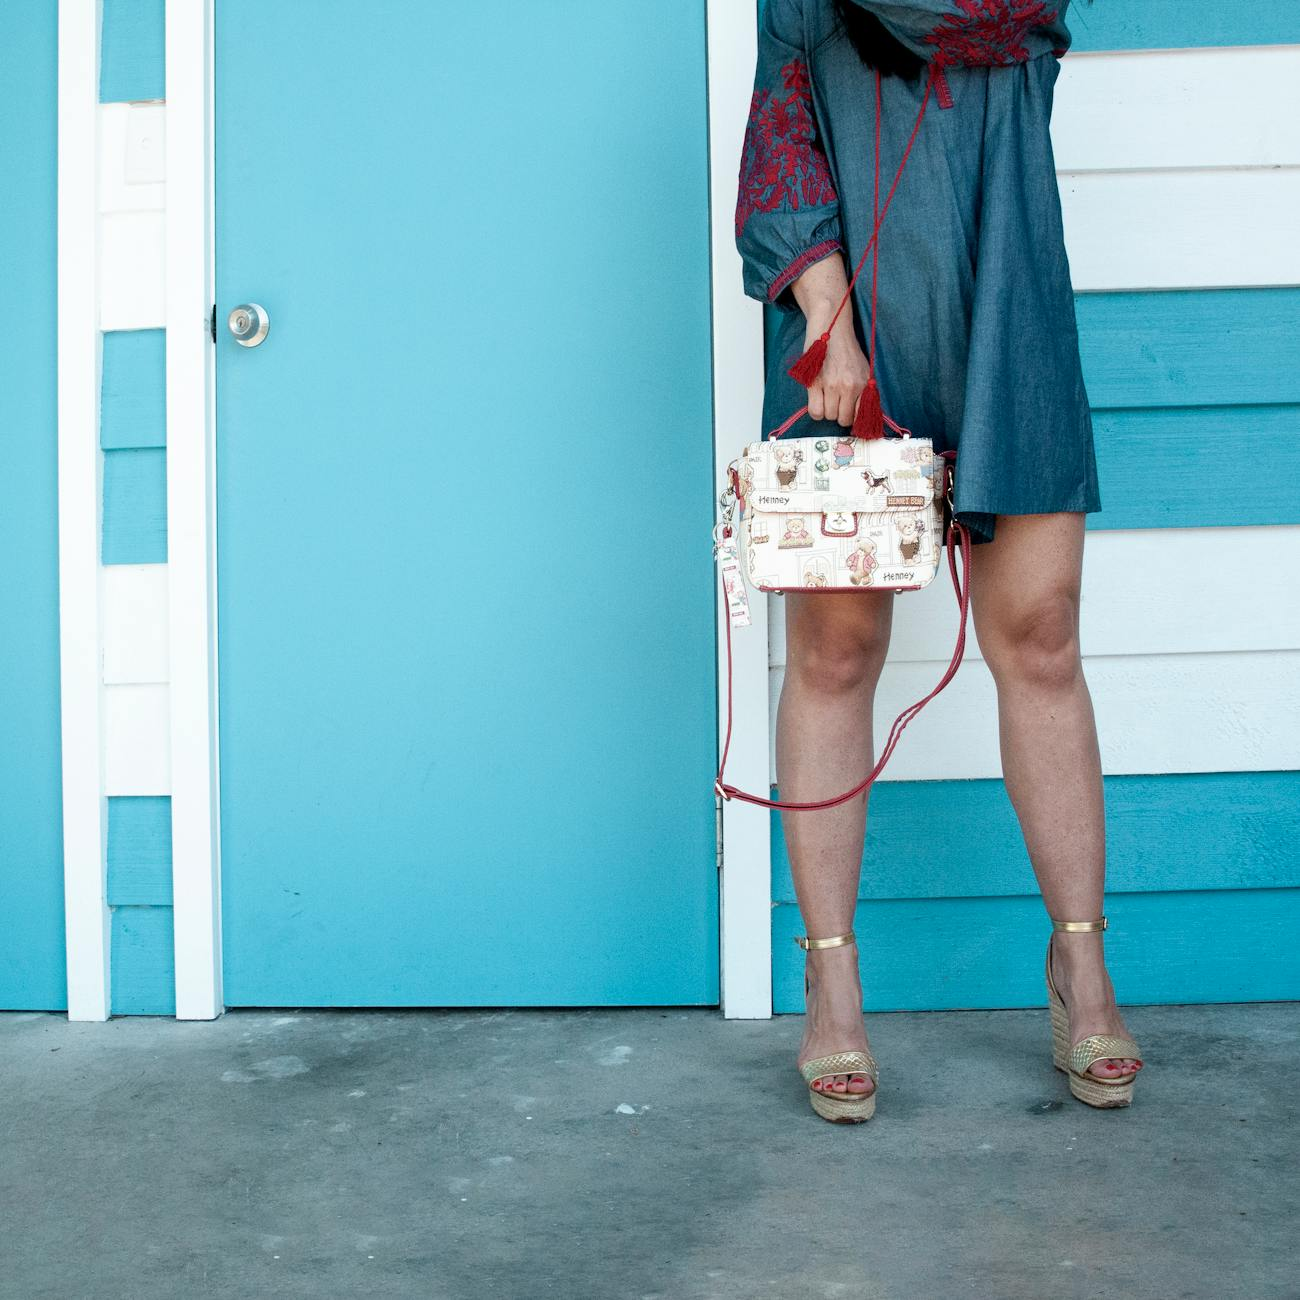opened_foot: (1042, 931, 1149, 1120), (788, 940, 888, 1130)
short_medium_skirt: (750, 302, 1144, 537)
